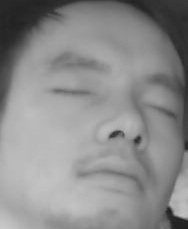blink: (51, 81, 91, 104), (148, 99, 179, 125)
mouth: (77, 152, 150, 197)
